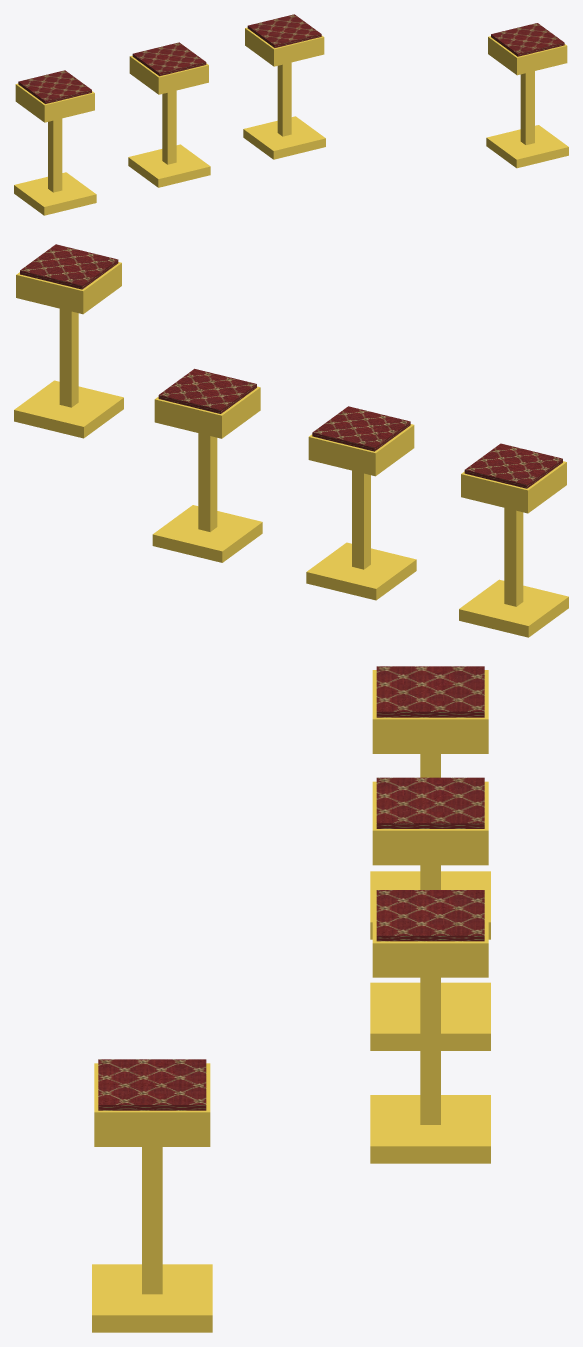
The model's file is barchairs.glb.
The picture shows the model from 3 angles, top to bottom: view 1: azimuth 30°, elevation 25°; view 2: azimuth 150°, elevation 25°; view 3: azimuth 270°, elevation 25°; orthographic projection. The views are drawn at different scales.
Visible parts, largest first — view 1: chairs.003; view 2: chairs.003; view 3: chairs.003.
Boxes of the visible parts, x1,y1,x2,y2 form: chairs.003: (14, 14, 568, 215); chairs.003: (14, 244, 568, 637); chairs.003: (92, 666, 490, 1332).
Size of what is drawn, in the model's own units: 3.43 by 0.8104 by 1.3.
Materials: 2 (1 with a texture image).
